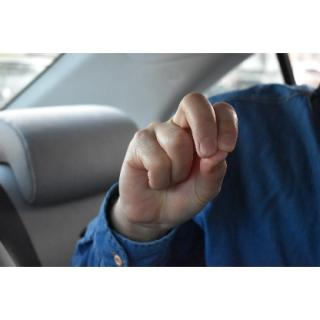QAAF: (111, 87, 246, 231)
